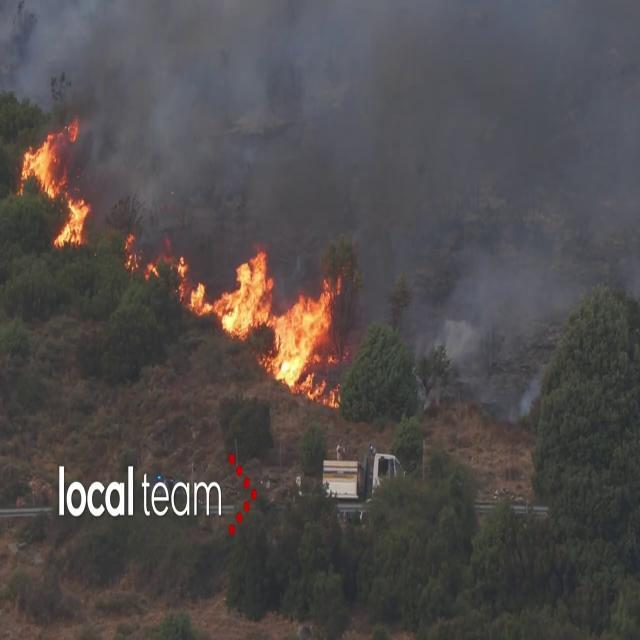Fire: (179, 244, 343, 392), (18, 123, 93, 247), (54, 193, 94, 250)
Smoke: (31, 0, 636, 352)
